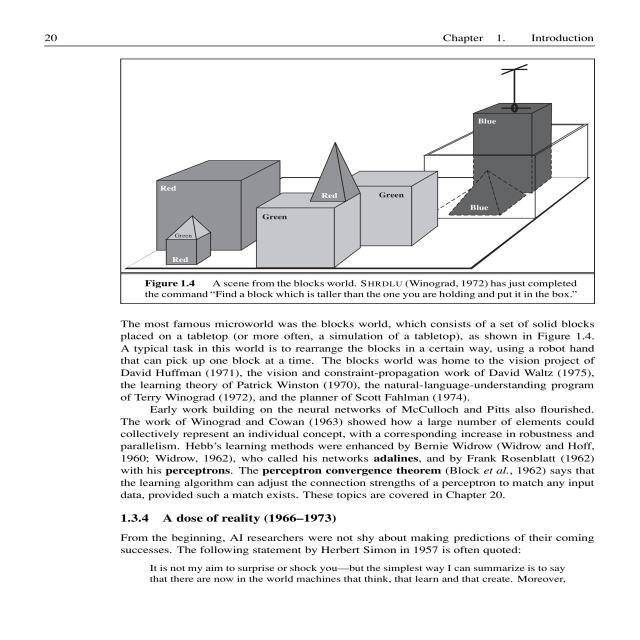diagram: (107, 49, 640, 308)
